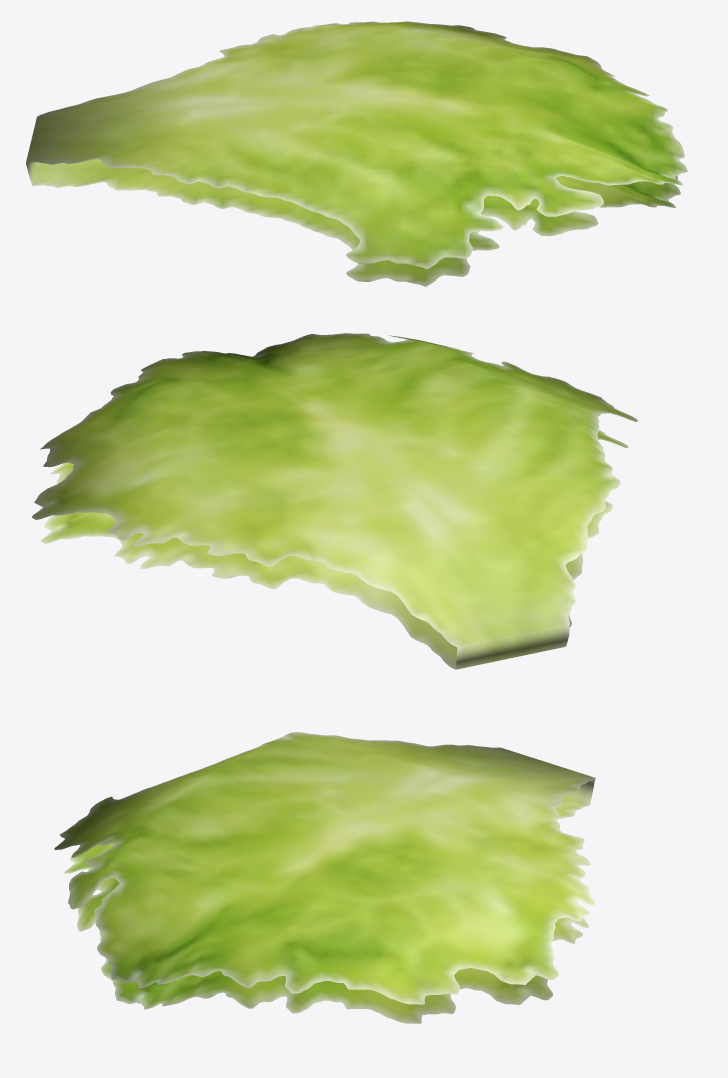
File: kitchen_lettuce.FBX
3 views of the same model, one above another, from view 1: azimuth 30°, elevation 25°; view 2: azimuth 150°, elevation 25°; view 3: azimuth 270°, elevation 25° (orthographic). The views are drawn at different scales.
Visible parts, largest first — view 1: kitchen_lettuce; view 2: kitchen_lettuce; view 3: kitchen_lettuce.
Boxes of the visible parts, box(x1,y1,x2,y2) form: kitchen_lettuce: box(26, 21, 687, 286); kitchen_lettuce: box(31, 333, 637, 669); kitchen_lettuce: box(54, 732, 595, 1023).
Size of the model in its own units: 39.57 by 5.34 by 36.83.
